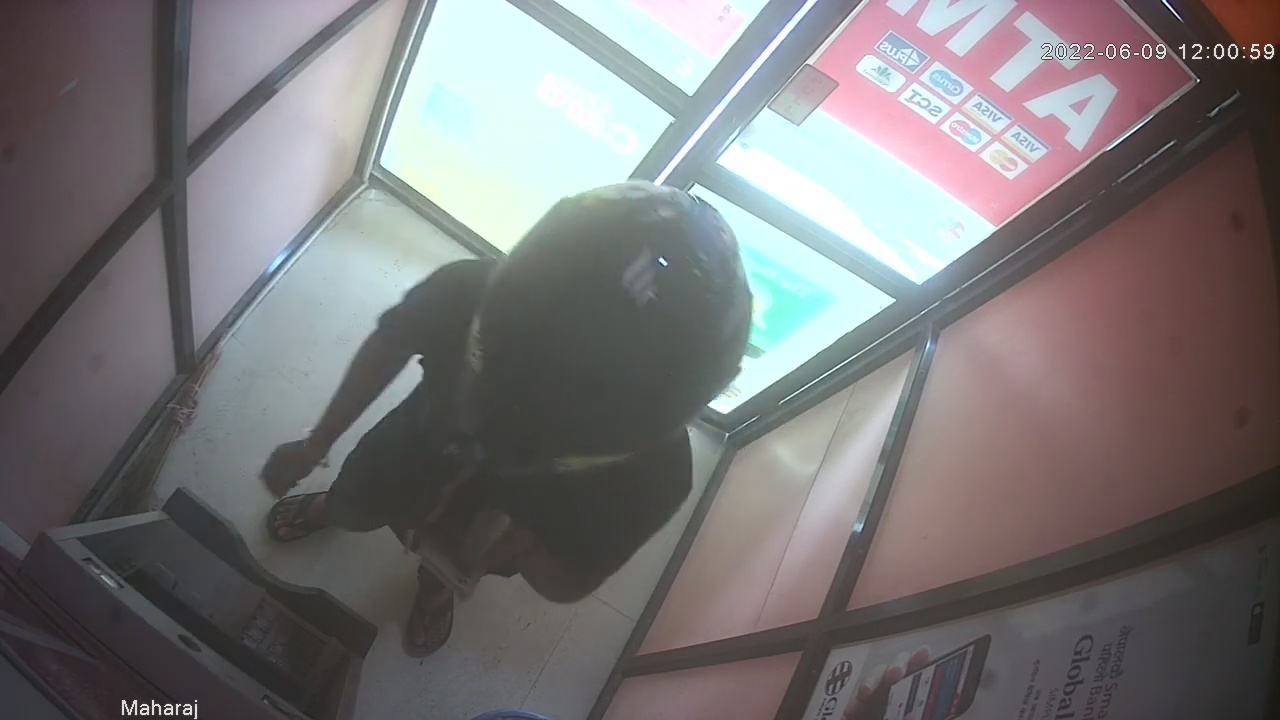person: (260, 178, 754, 664), (454, 179, 751, 483)
